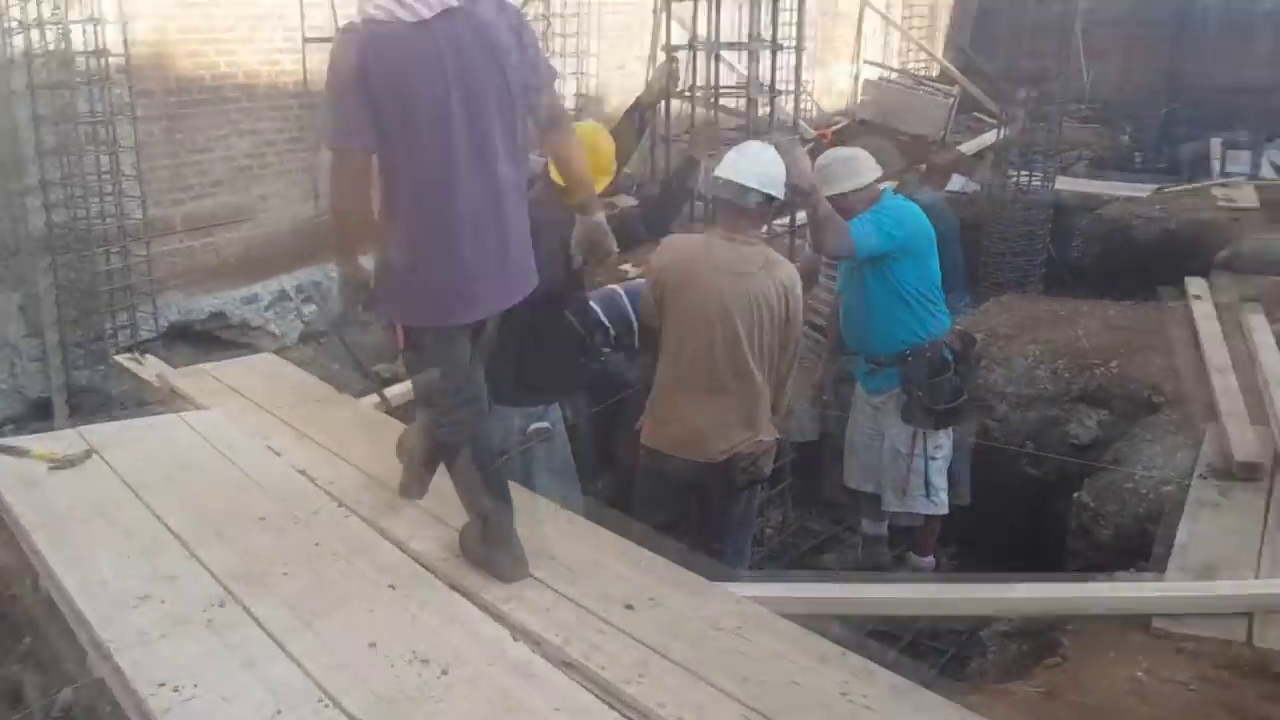helmet: (550, 124, 622, 203), (712, 137, 787, 206)
helmet-off: (811, 139, 893, 225)
helmet-on: (706, 138, 790, 247), (541, 118, 616, 216)
person: (327, 0, 572, 574), (797, 136, 972, 596), (628, 142, 801, 587), (487, 113, 626, 525)
